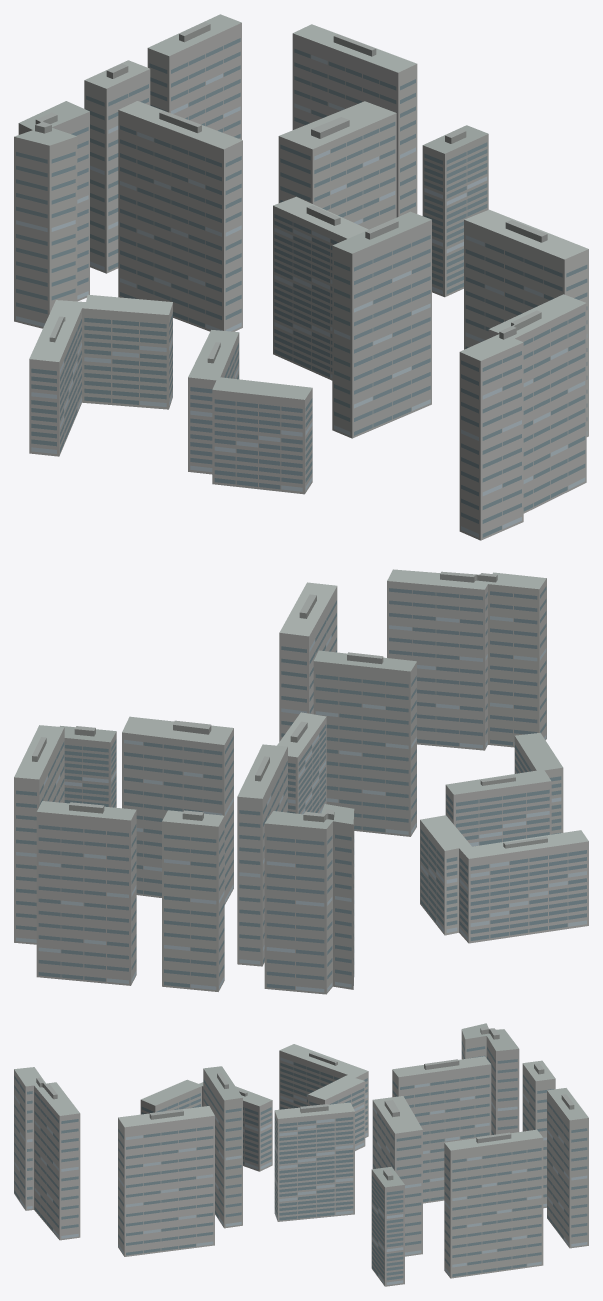
The model's file is apt-a13905105.glb.
3 renders of one model, top to bottom at view 1: azimuth 30°, elevation 25°; view 2: azimuth 150°, elevation 25°; view 3: azimuth 270°, elevation 25°, orthographic. The views are drawn at different scales.
Visible parts, largest first — view 1: apt-a13905105; view 2: apt-a13905105; view 3: apt-a13905105.
Part boxes in pixels (left/top/right/bottom): apt-a13905105: left=14, top=14, right=588, bottom=540; apt-a13905105: left=14, top=569, right=588, bottom=994; apt-a13905105: left=14, top=1023, right=588, bottom=1286.
Bounding box in the file's own units: 213 × 75 × 292.
